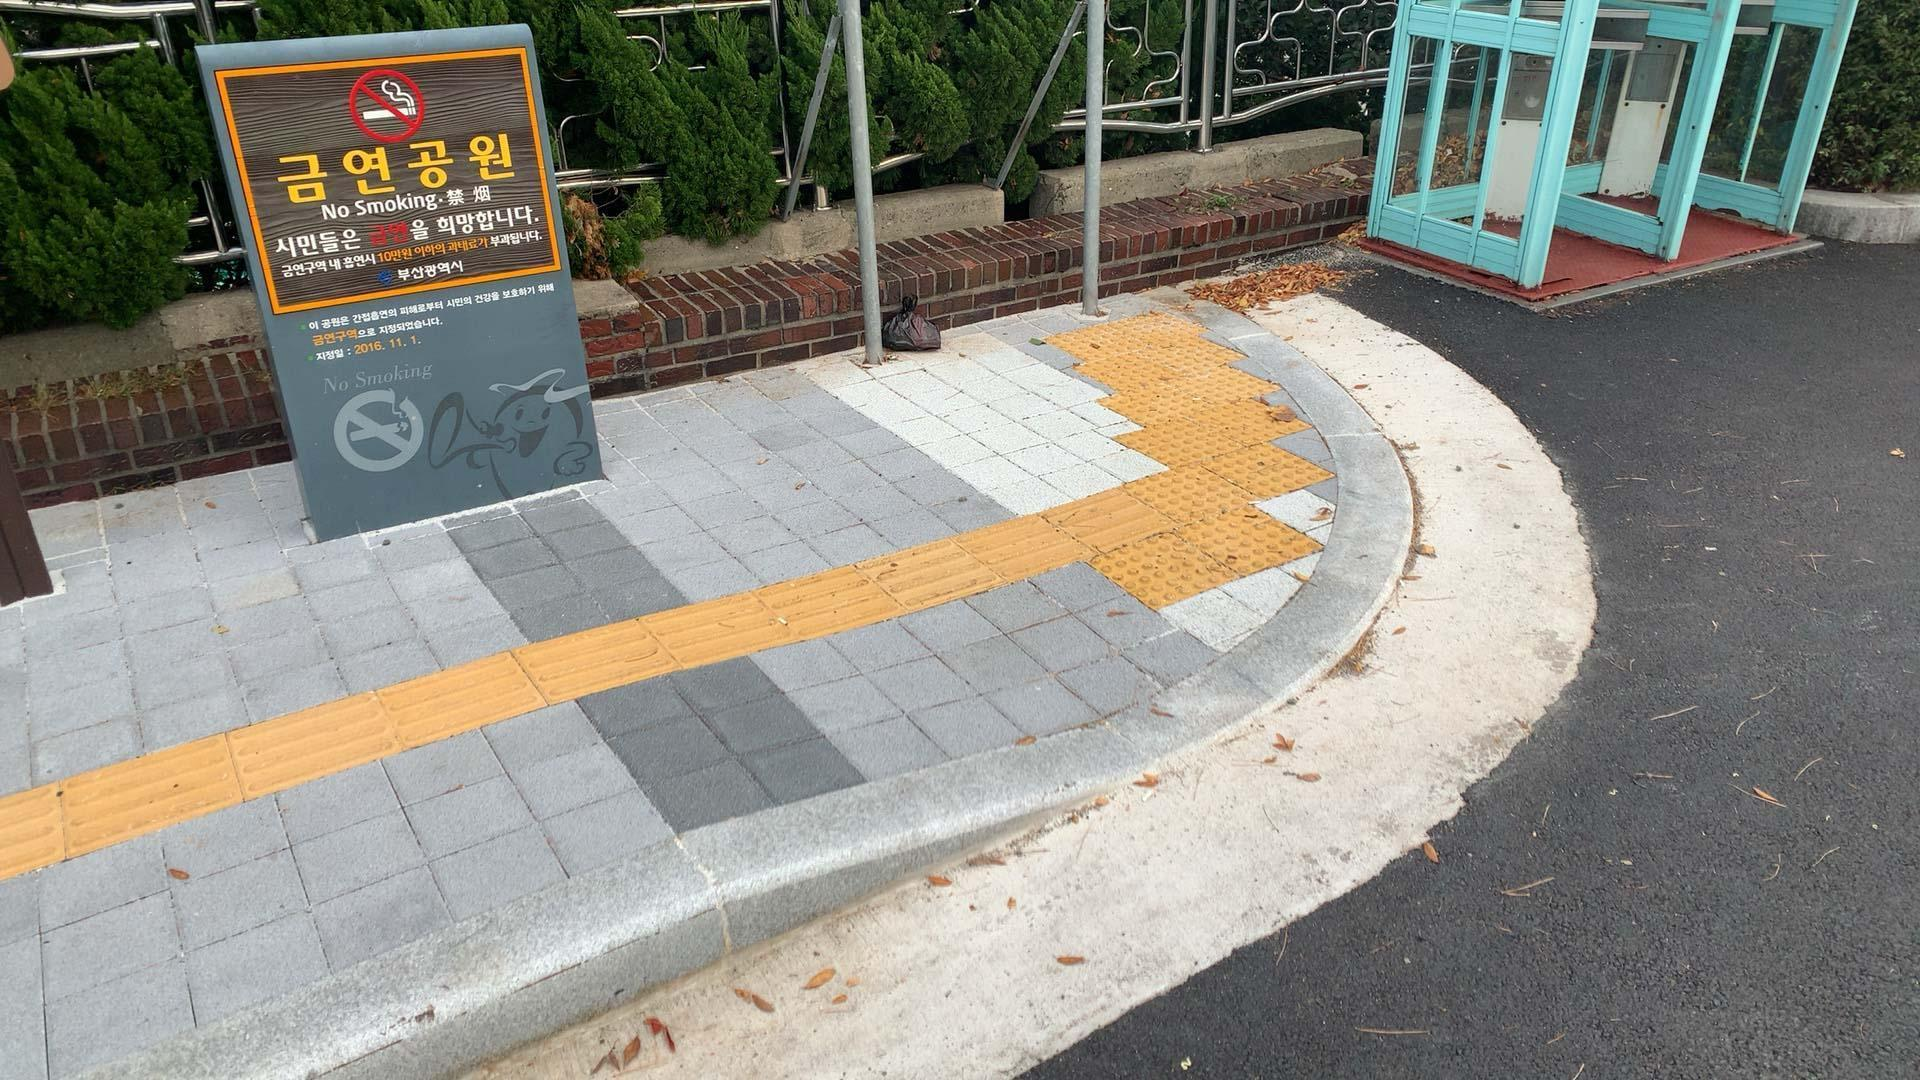black_bag: (876, 290, 945, 356)
